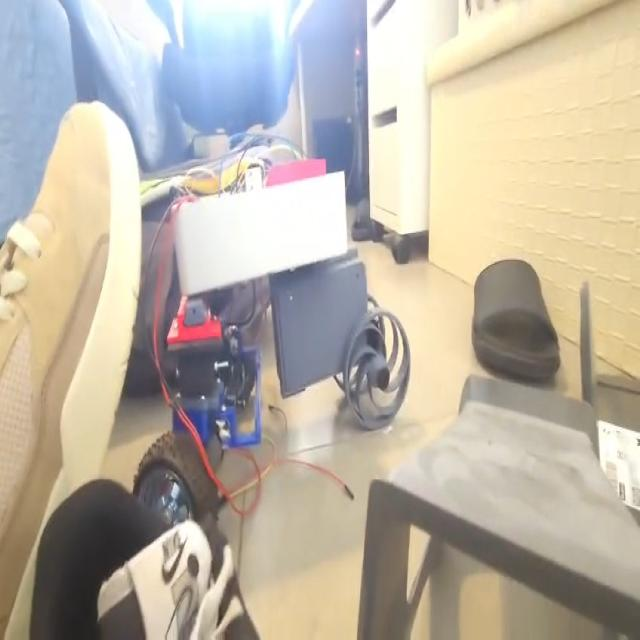Robot: (134, 155, 412, 531)
